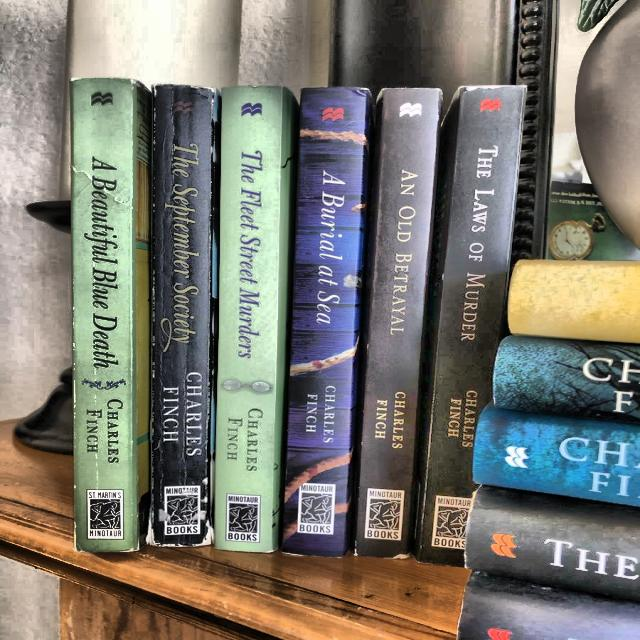Books: (415, 86, 525, 565), (282, 88, 370, 556), (355, 89, 440, 556), (213, 86, 297, 552), (72, 79, 152, 552), (148, 85, 220, 546), (465, 486, 640, 601), (473, 406, 640, 506), (493, 336, 640, 422), (508, 260, 640, 344)
